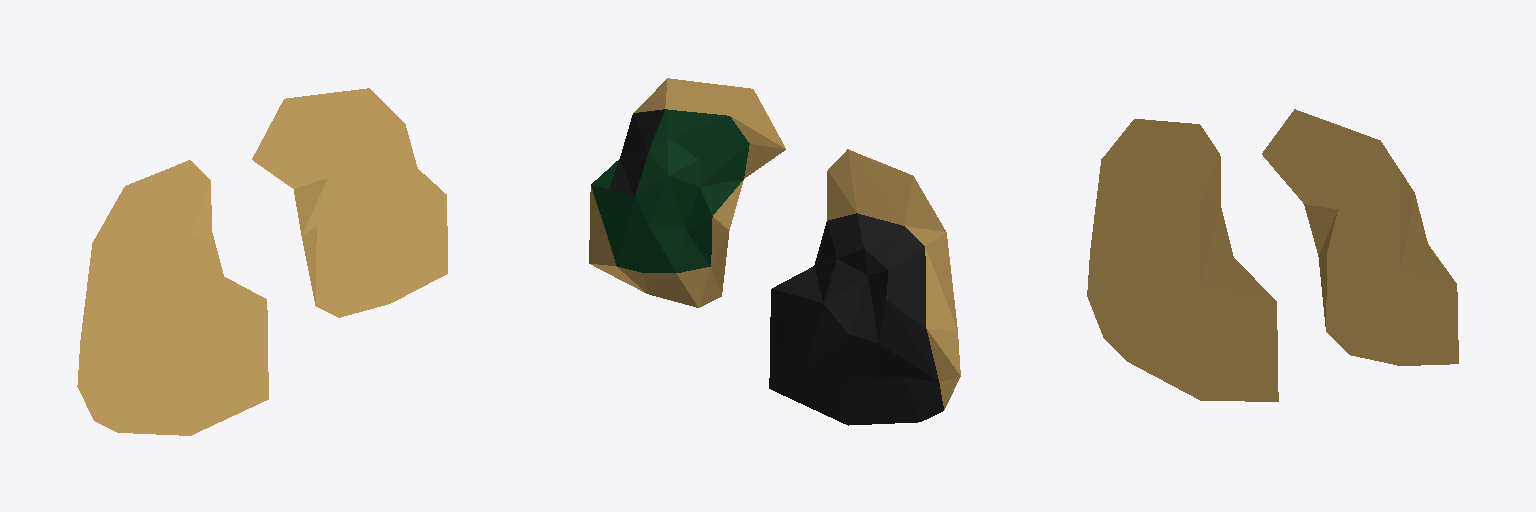
The model's file is island3.obj.
3 renders of one model, left to right at view 1: azimuth 30°, elevation 25°; view 2: azimuth 150°, elevation 25°; view 3: azimuth 330°, elevation 25°, orthographic.
Visible parts, largest first — view 1: Cube; view 2: Cube; view 3: Cube.
Part boxes in pixels (x1,y1,x2,y2): Cube: (77, 88, 447, 435); Cube: (589, 78, 960, 425); Cube: (1087, 109, 1458, 401).
Bounding box in the file's own units: 2.57 × 2.08 × 0.1825.